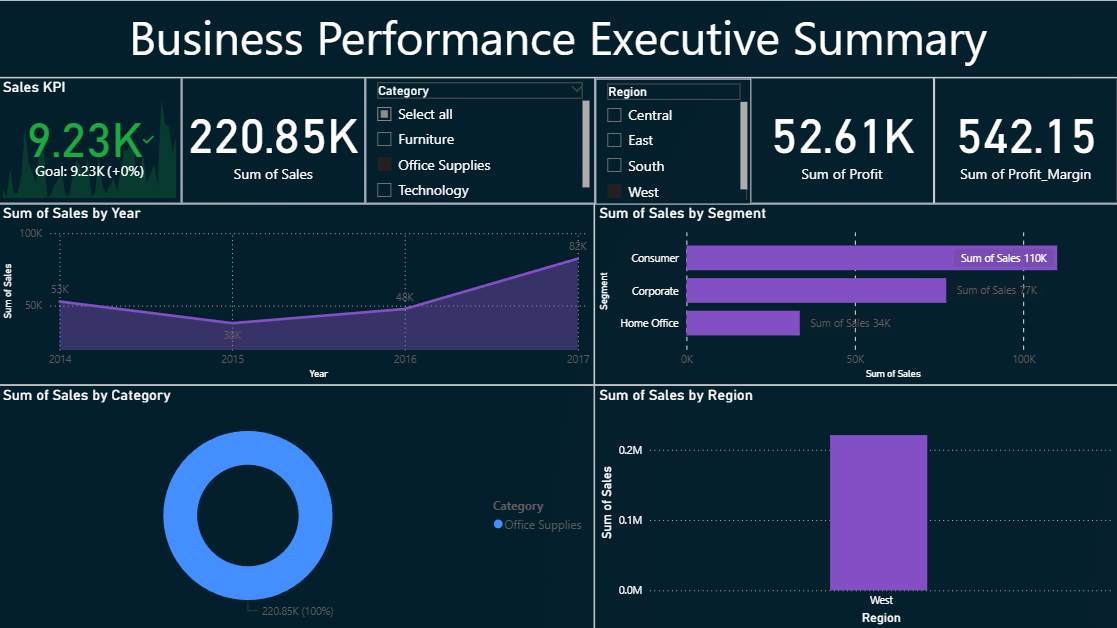

This screenshot's page, from the dashboard's own definition file:
{"tool":"powerbi","page":{"name":"Page 1","canvas":[1280,720],"ordinal":0},"visuals":[{"type":"lineChart","fields":{"Category":["Superstore_clean.MonthYear.Variation.Date Hierarchy.Year","Superstore_clean.MonthYear.Variation.Date Hierarchy.Quarter","Superstore_clean.MonthYear.Variation.Date Hierarchy.Month","Superstore_clean.MonthYear.Variation.Date Hierarchy.Day"],"Y":["Sum(Superstore_clean.Sales)"]},"box":[0,233.3,682,207.2],"z":0},{"type":"clusteredColumnChart","fields":{"Category":["Superstore_clean.Region"],"Y":["Sum(Superstore_clean.Sales)"]},"box":[682,440.5,598.3,279.9],"z":1000},{"type":"donutChart","fields":{"Category":["Superstore_clean.Category"],"Y":["Sum(Superstore_clean.Sales)"]},"box":[0,440.5,682,279.9],"z":2000},{"type":"kpi","title":"Sales KPI","fields":{"Indicator":["Sum(Superstore_clean.Sales)"],"TrendLine":["Superstore_clean.YearMonth"],"Goal":["Sum(Superstore_clean.Sales)"]},"box":[0,89.2,209.9,144.1],"z":3000},{"type":"slicer","fields":{"Values":["Superstore_clean.Region"]},"box":[682.9,89.6,179.1,144.3],"z":4000},{"type":"slicer","fields":{"Values":["Superstore_clean.Category"]},"box":[419.9,89.2,262.1,144.1],"z":5000},{"type":"card","fields":{"Values":["Sum(Superstore_clean.Sales)"]},"box":[209.9,89.2,209.9,144.1],"z":6000},{"type":"card","fields":{"Values":["Sum(Superstore_clean.Profit)"]},"box":[860.4,89.2,209.9,144.1],"z":7000},{"type":"card","fields":{"Values":["Sum(Superstore_clean.Profit_Margin)"]},"box":[1070.3,89.2,209.9,144.1],"z":8000},{"type":"clusteredBarChart","fields":{"Category":["Superstore_clean.Segment"],"Y":["Sum(Superstore_clean.Sales)"]},"box":[682,233.3,598.3,207.2],"z":9000},{"type":"textbox","box":[0,0,1280.3,89.2],"z":10000}]}

Visuals, with their boxes in screenshot pixels (x1, y1, x2, y2), scaled from the page's 1280x720 canvas onto the 1117x628 screenshot:
lineChart - Superstore_clean.MonthYear.Variation.Date Hierarchy.Year x Superstore_clean.MonthYear.Variation.Date Hierarchy.Quarter: x1=0 y1=203 x2=595 y2=384
clusteredColumnChart - Superstore_clean.Region x Sum(Superstore_clean.Sales): x1=595 y1=384 x2=1116 y2=627
donutChart - Superstore_clean.Category x Sum(Superstore_clean.Sales): x1=0 y1=384 x2=595 y2=627
"Sales KPI" kpi: x1=0 y1=78 x2=183 y2=203
slicer - Superstore_clean.Region: x1=596 y1=78 x2=752 y2=204
slicer - Superstore_clean.Category: x1=366 y1=78 x2=595 y2=203
card - Sum(Superstore_clean.Sales): x1=183 y1=78 x2=366 y2=203
card - Sum(Superstore_clean.Profit): x1=751 y1=78 x2=934 y2=203
card - Sum(Superstore_clean.Profit_Margin): x1=934 y1=78 x2=1116 y2=203
clusteredBarChart - Superstore_clean.Segment x Sum(Superstore_clean.Sales): x1=595 y1=203 x2=1116 y2=384
textbox: x1=0 y1=0 x2=1116 y2=78
